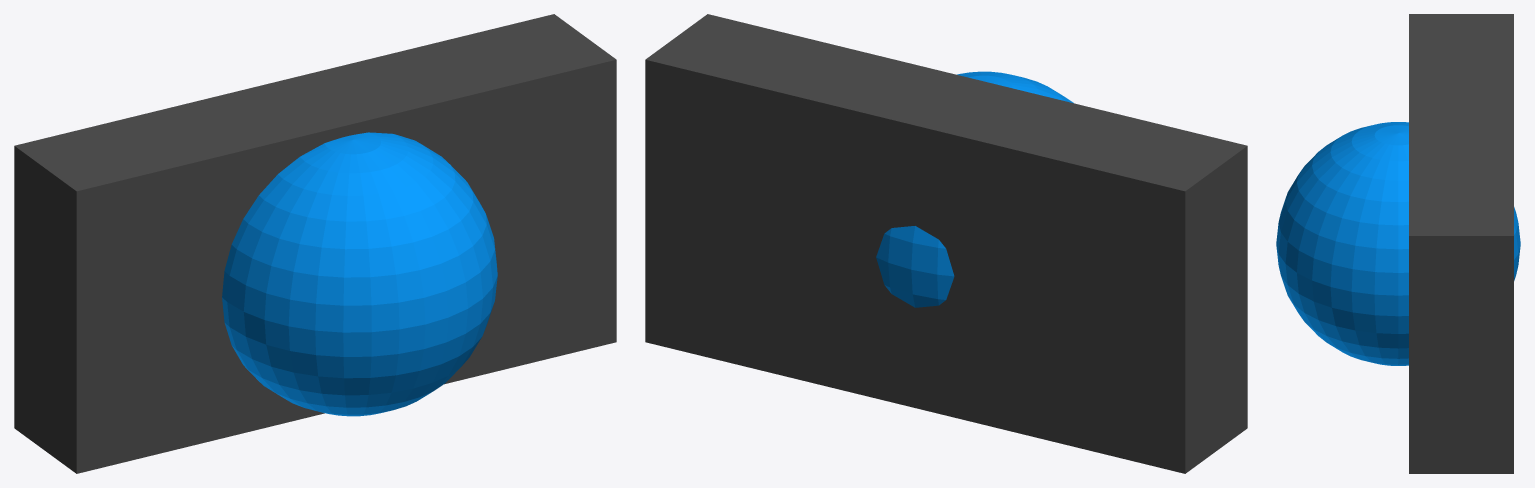
The model's file is TheOuterItem.fbx_Light.fbx.
3 renders of one model, left to right at view 1: azimuth 30°, elevation 25°; view 2: azimuth 150°, elevation 25°; view 3: azimuth 270°, elevation 25°, orthographic. The views are drawn at different scales.
Visible parts, largest first — view 1: LightBase, LightSphere; view 2: LightBase, LightSphere; view 3: LightBase, LightSphere.
Boxes of the visible parts, x1,y1,x2,y2 form: LightBase: [14, 14, 616, 473]; LightSphere: [222, 132, 497, 416]; LightBase: [645, 14, 1247, 473]; LightSphere: [876, 71, 1073, 307]; LightBase: [1409, 14, 1513, 473]; LightSphere: [1276, 122, 1520, 365].
Bounding box in the file's own units: 100 × 50 × 46.56.
